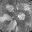people: (4, 4, 15, 13), (8, 20, 17, 31), (17, 13, 26, 21), (5, 14, 14, 21), (0, 15, 8, 22)
